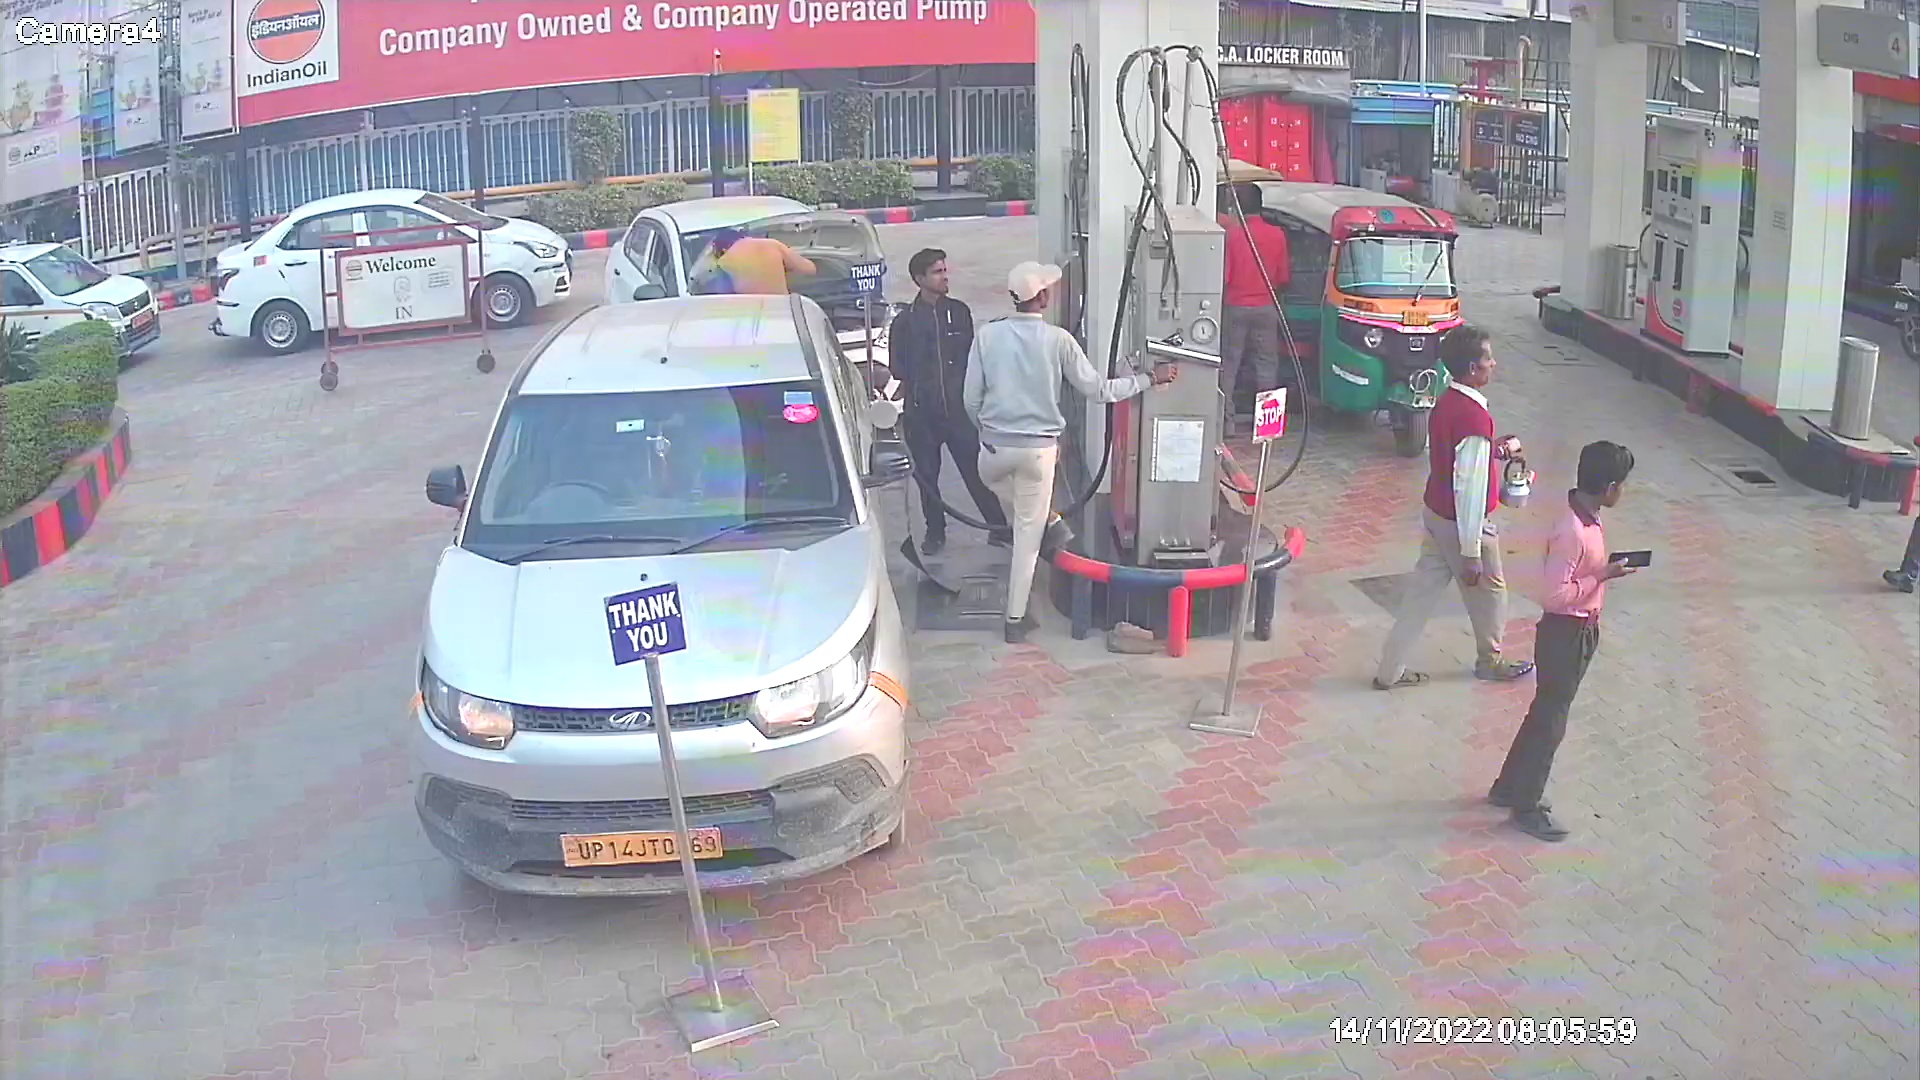Auto: (1216, 171, 1468, 464)
Bike: (1876, 253, 1917, 361)
Car: (398, 269, 916, 915), (595, 174, 915, 434), (214, 177, 578, 360), (1, 224, 174, 382)
Others: (960, 252, 1083, 647)
Others Other: (597, 574, 781, 1055), (1192, 378, 1294, 740), (843, 257, 895, 440)
